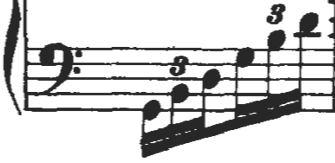bass_clef: (31, 34, 86, 100)
